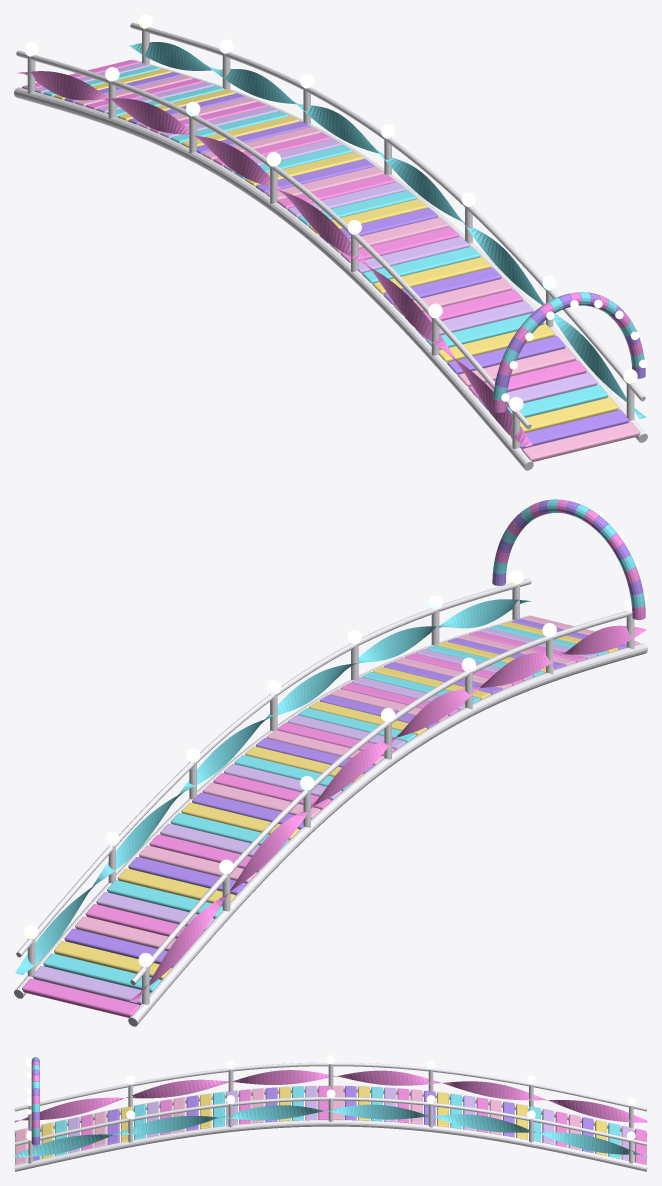
File: party-bridge.glb
3 views of the same model, one above another, from view 1: azimuth 30°, elevation 25°; view 2: azimuth 150°, elevation 25°; view 3: azimuth 270°, elevation 25° (orthographic). The views are drawn at different scales.
Visible parts, largest first — view 1: ribbon_1, ribbon_-1, beam_-1, rail_1, rail_-1, beam_1, plank_47, plank_46, plank_45, plank_32, plank_31, plank_44 (+29 smaller); view 2: ribbon_-1, ribbon_1, beam_-1, rail_1, rail_-1, beam_1, plank_0, plank_1, plank_2, plank_3, plank_9, plank_10 (+24 smaller); view 3: ribbon_1, ribbon_-1, beam_1, rail_-1, rail_1, beam_-1, plank_40, plank_0, plank_32, plank_7, plank_47, plank_17 (+41 smaller).
Boxes of the visible parts, left/top/right/bottom form: ribbon_1: left=129, top=42, right=646, bottom=419; ribbon_-1: left=15, top=71, right=532, bottom=446; beam_-1: left=14, top=87, right=533, bottom=470; rail_1: left=130, top=22, right=645, bottom=401; rail_-1: left=16, top=50, right=531, bottom=429; beam_1: left=132, top=59, right=647, bottom=442; plank_47: left=522, top=422, right=639, bottom=461; plank_46: left=511, top=410, right=629, bottom=448; plank_45: left=502, top=397, right=618, bottom=436; plank_32: left=362, top=246, right=480, bottom=283; plank_31: left=358, top=236, right=469, bottom=273; plank_44: left=490, top=385, right=607, bottom=417; ribbon_-1: left=129, top=625, right=646, bottom=1002; ribbon_1: left=15, top=599, right=531, bottom=974; beam_-1: left=128, top=643, right=647, bottom=1026; rail_1: left=16, top=578, right=531, bottom=957; rail_-1: left=130, top=611, right=631, bottom=985; beam_1: left=14, top=615, right=530, bottom=998; plank_0: left=22, top=978, right=139, bottom=1017; plank_1: left=32, top=966, right=150, bottom=1004; plank_2: left=43, top=953, right=161, bottom=992; plank_3: left=54, top=941, right=171, bottom=979; plank_9: left=117, top=868, right=235, bottom=905; plank_10: left=128, top=857, right=246, bottom=895; ribbon_1: left=14, top=1104, right=647, bottom=1157; ribbon_-1: left=14, top=1070, right=647, bottom=1122; beam_1: left=14, top=1120, right=647, bottom=1171; rail_-1: left=14, top=1062, right=647, bottom=1111; rail_1: left=14, top=1097, right=647, bottom=1145; beam_-1: left=14, top=1085, right=647, bottom=1136; plank_40: left=107, top=1109, right=119, bottom=1144; plank_0: left=634, top=1128, right=646, bottom=1164; plank_32: left=213, top=1092, right=224, bottom=1127; plank_7: left=542, top=1109, right=554, bottom=1144; plank_47: left=15, top=1128, right=27, bottom=1164; plank_17: left=410, top=1089, right=422, bottom=1124.
Size of the model in its own units: 4.11 by 3.9 by 24.06.
